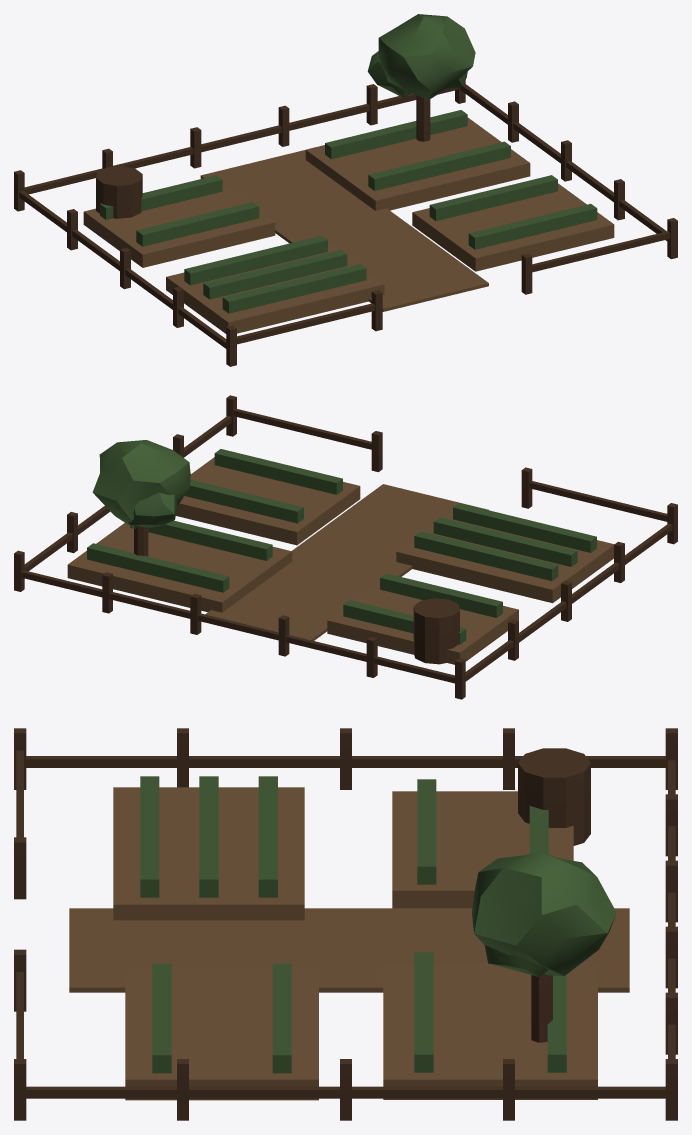
Rendered from yard_garden.glb.
3 views of the same model, one above another, from view 1: azimuth 30°, elevation 25°; view 2: azimuth 150°, elevation 25°; view 3: azimuth 270°, elevation 25° (orthographic). The views are drawn at different scales.
Parts seen in each view (by area): view 1: prop; view 2: prop; view 3: prop.
Boxes of the visible parts, box(x1,y1,x2,y2) form: prop: box(14, 14, 677, 366); prop: box(14, 395, 677, 699); prop: box(14, 728, 677, 1120).
Size of the model in its own units: 9.14 by 2.63 by 7.64.
